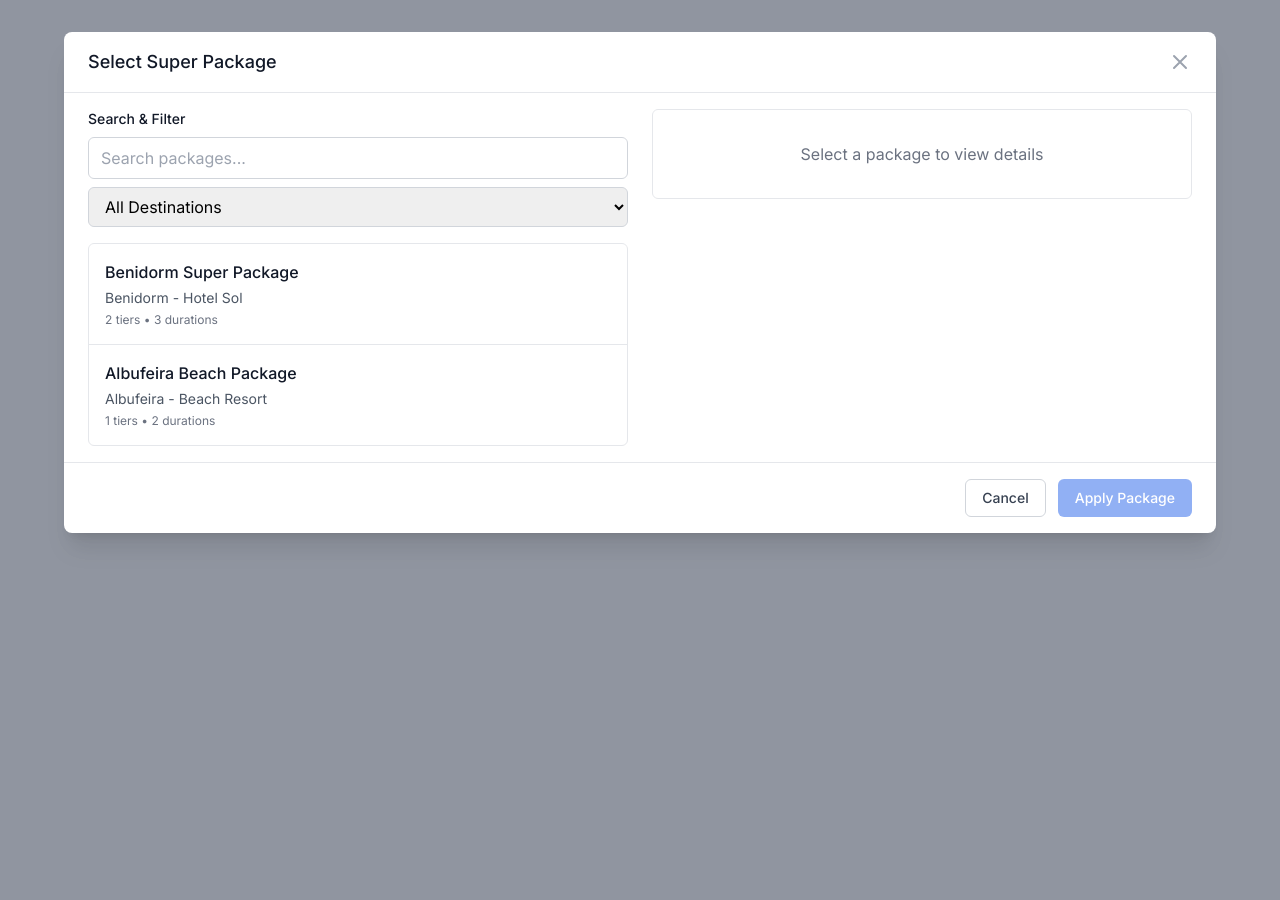
PackageSelector › should filter packages by search term
Expected: the text "Benidorm Super Package" is shown, [105,262,299,282]
Type "Benidorm" into the field with placeholder "Search packages...".
click(358, 158); type("Benidorm")  # box [88,137,628,179]
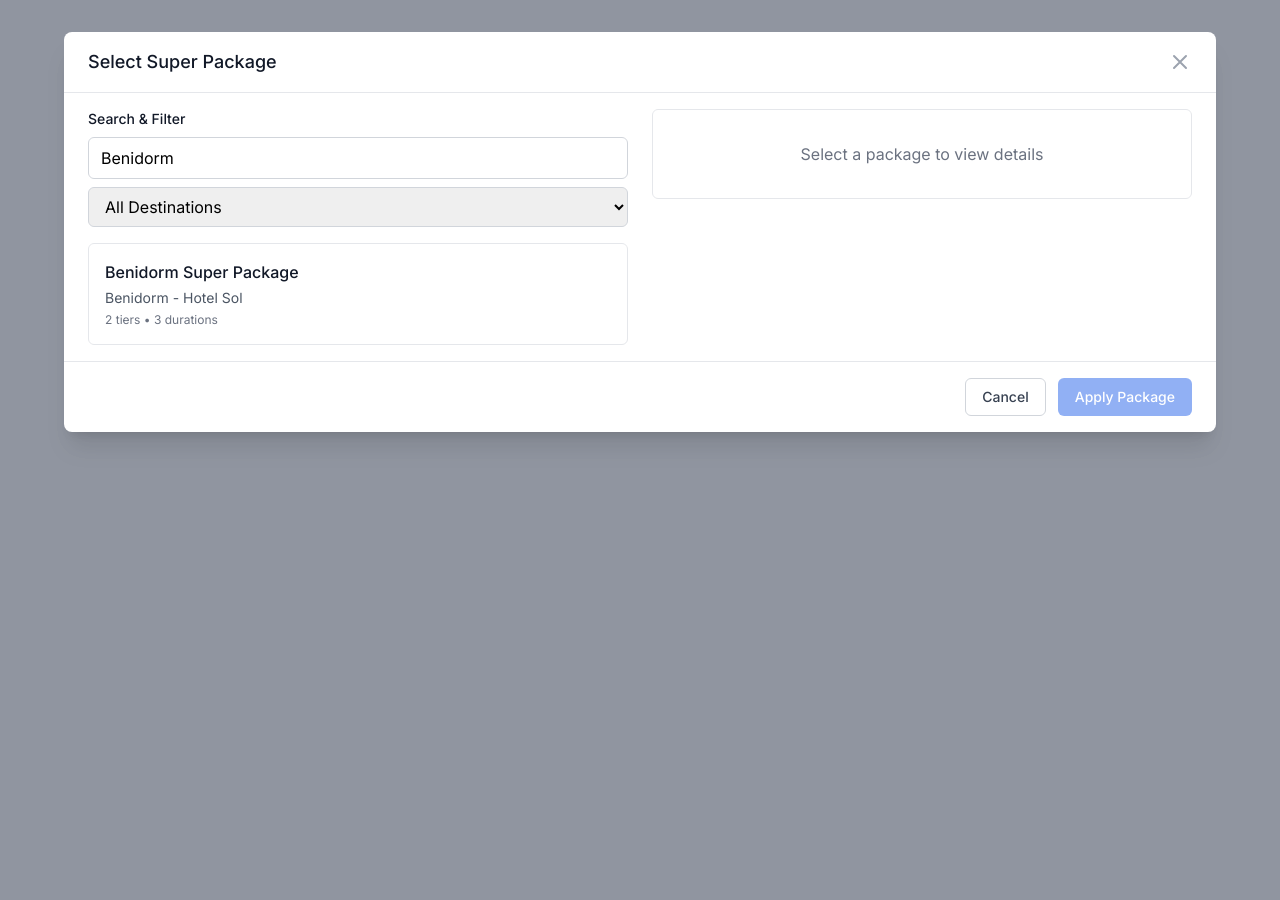
Expected: the text "Benidorm Super Package" is shown, [105,262,299,282]
Expected: the button "Albufeira Beach Package" is gone
